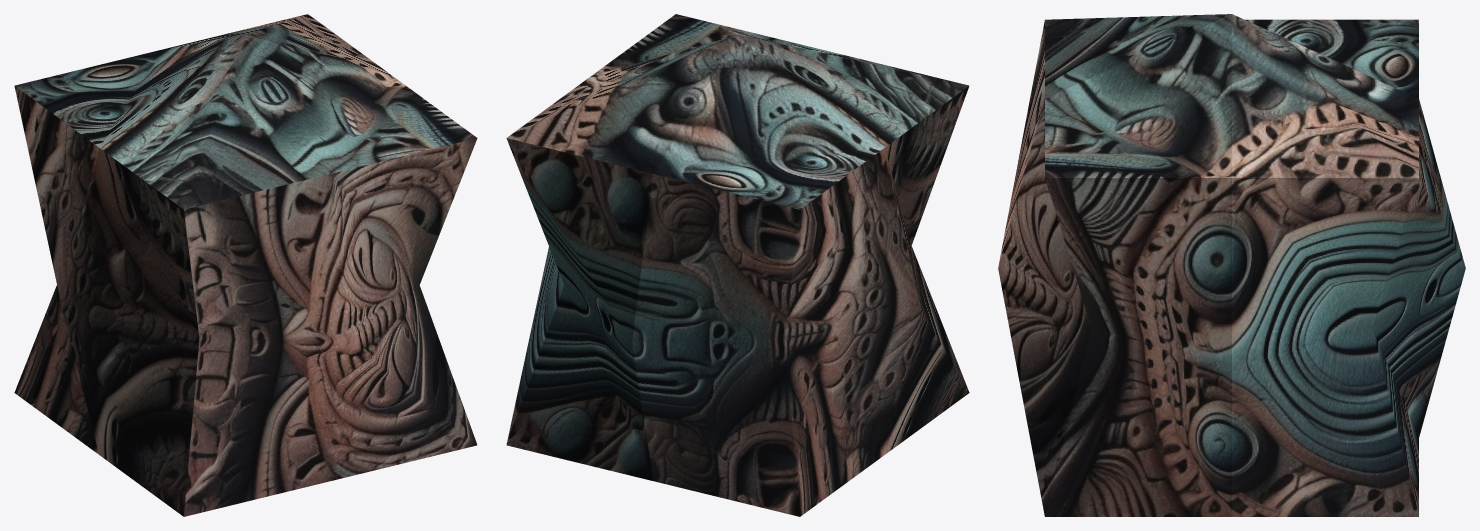
Rendered from artifact4.gltf.
3 views of the same model, side by side, from view 1: azimuth 30°, elevation 25°; view 2: azimuth 150°, elevation 25°; view 3: azimuth 270°, elevation 25° (orthographic). The views are drawn at different scales.
Visible parts, largest first — view 1: Cube; view 2: Cube; view 3: Cube.
Part boxes in pixels (x1,y1,x2,y2): Cube: [14, 14, 477, 516]; Cube: [506, 14, 969, 516]; Cube: [998, 14, 1465, 516].
Bounding box in the file's own units: 2.5 × 2.5 × 2.5.
Materials: 1 (1 with a texture image).
